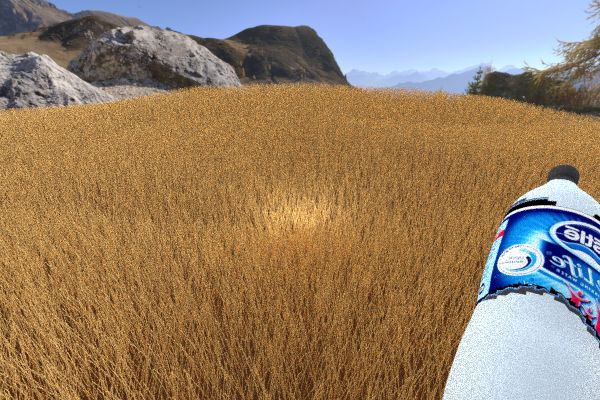bottle: (441, 164, 600, 400)
can: (28, 187, 195, 270)
